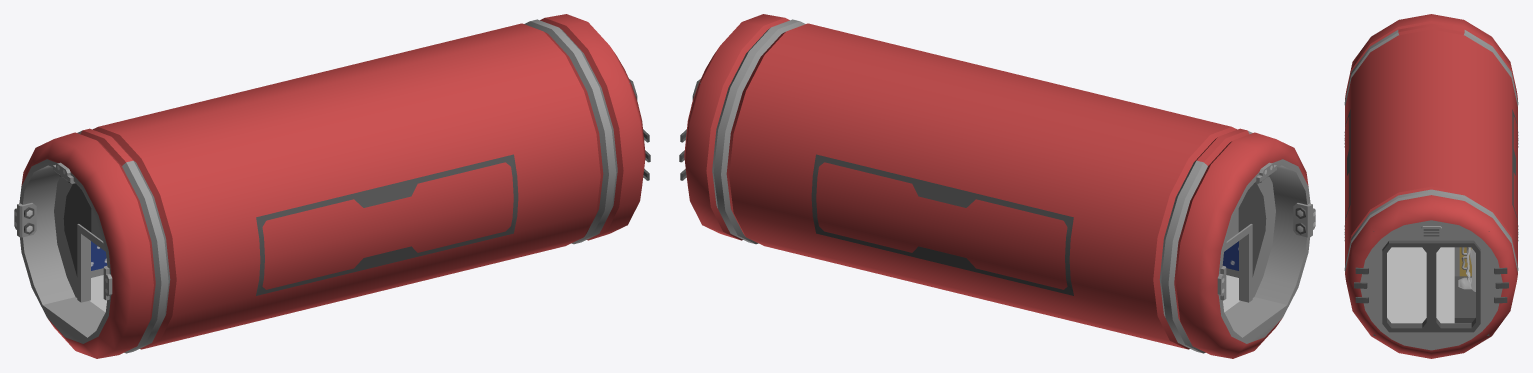
Rendered from env_mechanicstation_sleepcapsule01_lod2.fbx.
3 renders of one model, left to right at view 1: azimuth 30°, elevation 25°; view 2: azimuth 150°, elevation 25°; view 3: azimuth 270°, elevation 25°, orthographic. The views are drawn at different scales.
Parts seen in each view (by area): view 1: env_mechanicstation_sleepcapsule01_lod2; view 2: env_mechanicstation_sleepcapsule01_lod2; view 3: env_mechanicstation_sleepcapsule01_lod2.
Boxes of the visible parts, bbox=[...] form: env_mechanicstation_sleepcapsule01_lod2: bbox=[14, 14, 650, 358]; env_mechanicstation_sleepcapsule01_lod2: bbox=[679, 14, 1315, 358]; env_mechanicstation_sleepcapsule01_lod2: bbox=[1344, 14, 1518, 358].
Size of the model in its own units: 82.61 by 30.03 by 30.27.
